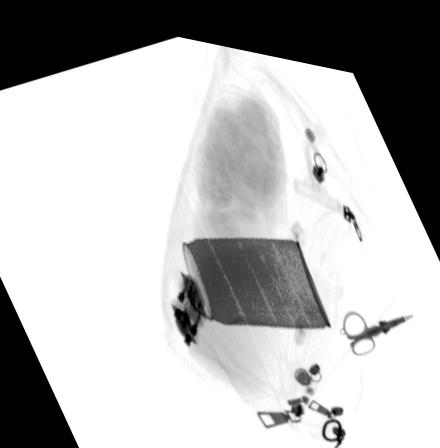Scissors: (340, 295, 415, 341)
